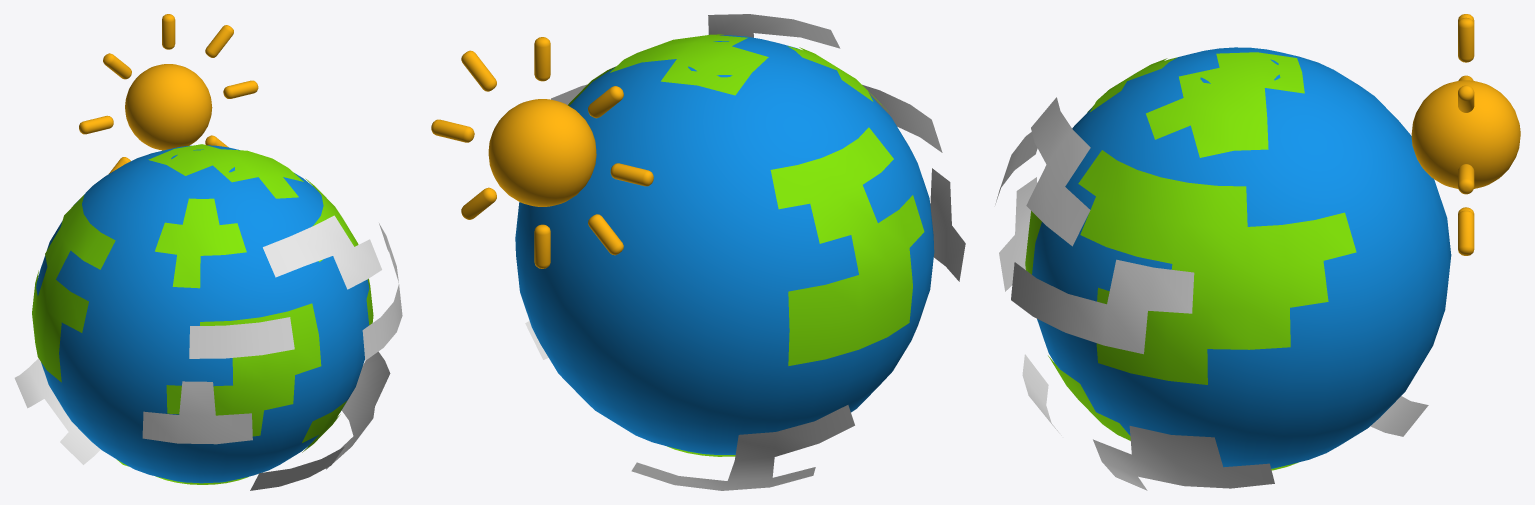
Rendered from Day.glb.
The picture shows the model from 3 angles, left to right: view 1: azimuth 30°, elevation 25°; view 2: azimuth 150°, elevation 25°; view 3: azimuth 270°, elevation 25°; orthographic projection. The views are drawn at different scales.
Parts seen in each view (by area): view 1: Sphere, Sphere.002, Sphere.009, Sphere.015; view 2: Sphere, Sphere.002, Sphere.015, Sphere.009; view 3: Sphere, Sphere.002, Sphere.009, Sphere.015.
Boxes of the visible parts, x1,y1,x2,y2 form: Sphere: (36, 145, 369, 483); Sphere.002: (32, 144, 373, 484); Sphere.009: (14, 215, 402, 490); Sphere.015: (79, 14, 258, 173); Sphere: (515, 35, 934, 454); Sphere.002: (568, 34, 924, 456); Sphere.015: (431, 37, 653, 268); Sphere.009: (525, 14, 965, 490); Sphere: (1032, 47, 1451, 468); Sphere.002: (1025, 52, 1356, 470); Sphere.009: (995, 97, 1428, 490); Sphere.015: (1411, 14, 1520, 255).
Bounding box in the file's own units: 2.14 × 2.43 × 2.48.
